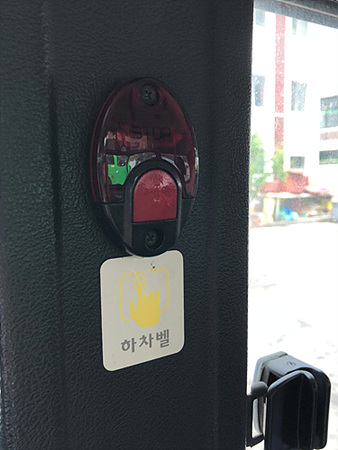bell: (91, 77, 201, 259)
